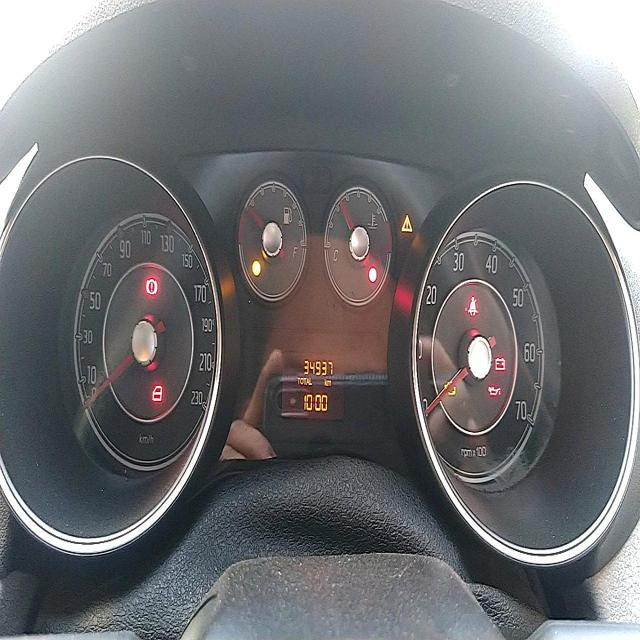odometer: (302, 357, 334, 376)
